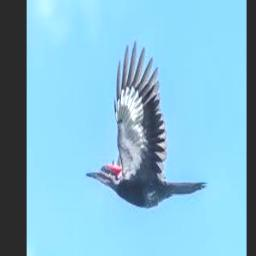Woodpecker: (85, 40, 208, 208)
